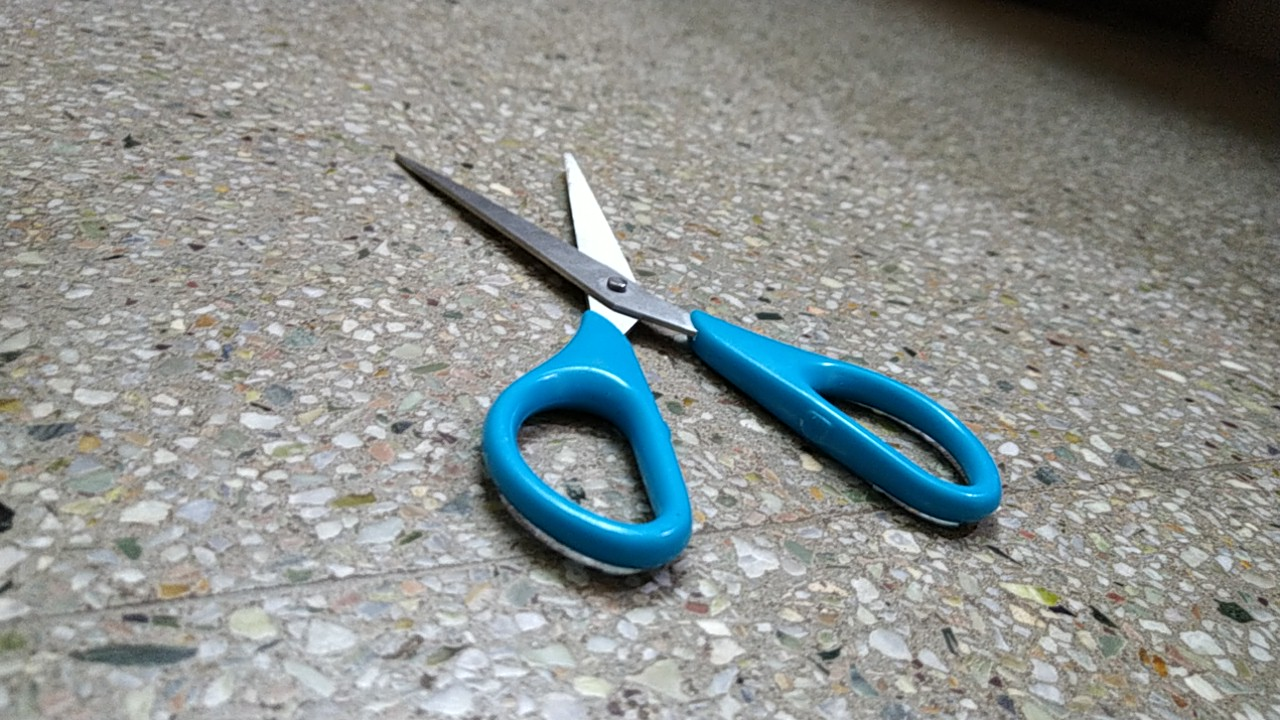scissor: (366, 132, 1017, 584)
